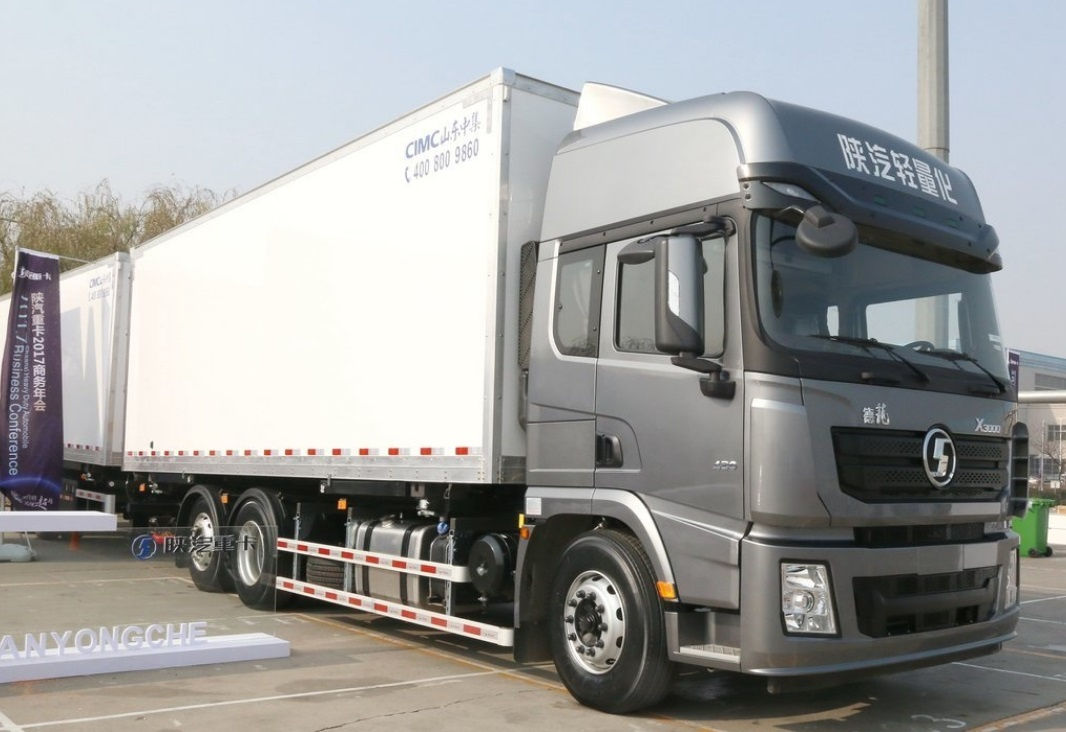heavy truck: (123, 63, 1025, 696)
